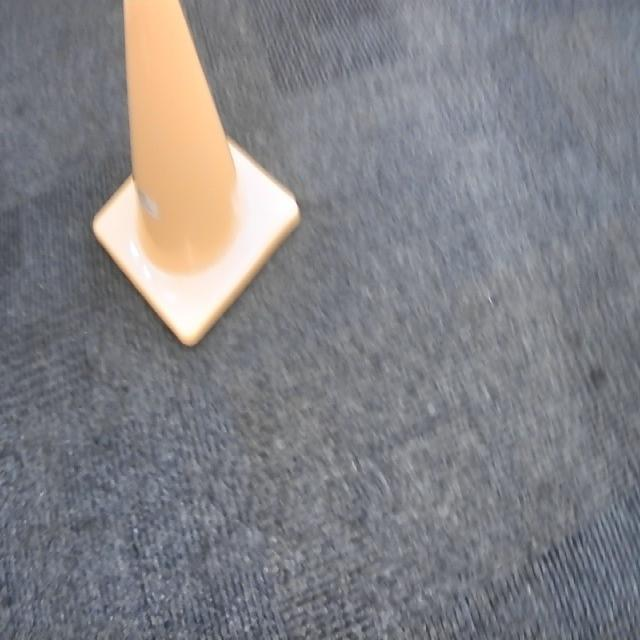cone: (88, 3, 302, 351)
